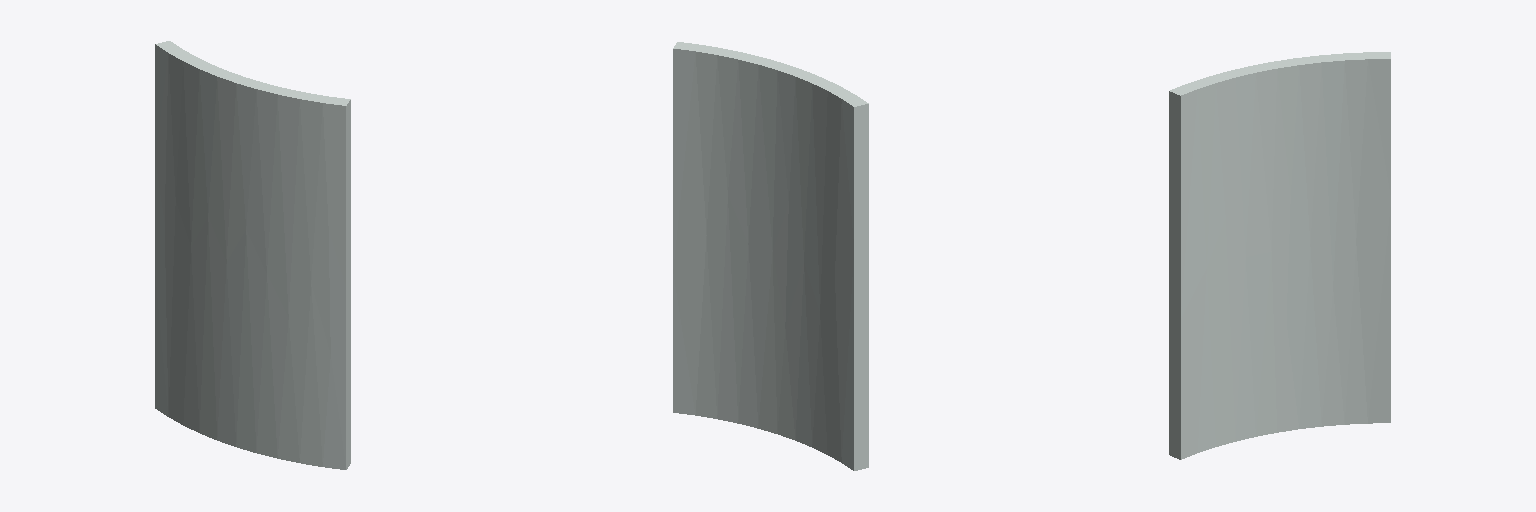
The model's file is 0_floor_links.obj.
The picture shows the model from 3 angles: view 1: azimuth 30°, elevation 25°; view 2: azimuth 210°, elevation 25°; view 3: azimuth 270°, elevation 25°; orthographic projection.
Parts seen in each view (by area): view 1: Walls; view 2: Walls; view 3: Walls.
Part boxes in pixels (x1,y1,x2,y2): Walls: (155, 41, 350, 469); Walls: (673, 42, 868, 470); Walls: (1169, 52, 1390, 459).
Size of the model in its own units: 0.6213 by 2.4 by 1.33.